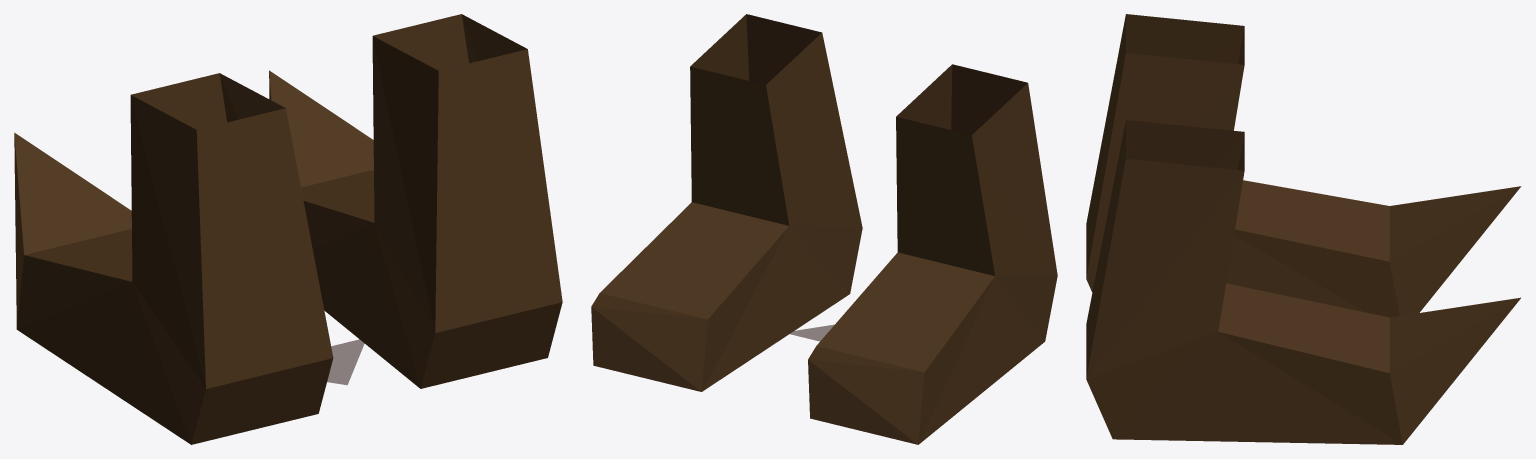
File: player_female_feet_81_0.obj
The picture shows the model from 3 angles, left to right: view 1: azimuth 30°, elevation 25°; view 2: azimuth 150°, elevation 25°; view 3: azimuth 270°, elevation 25°; orthographic projection. The views are drawn at different scales.
Size of the model in its own units: 0.2344 by 0.1797 by 0.2578.
